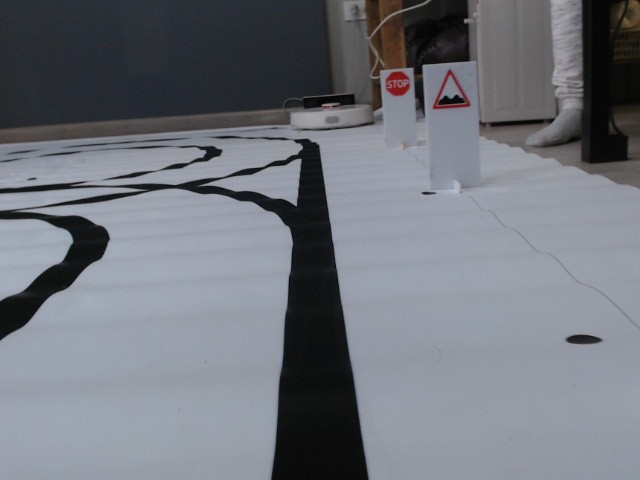Nerov: (432, 68, 472, 110)
